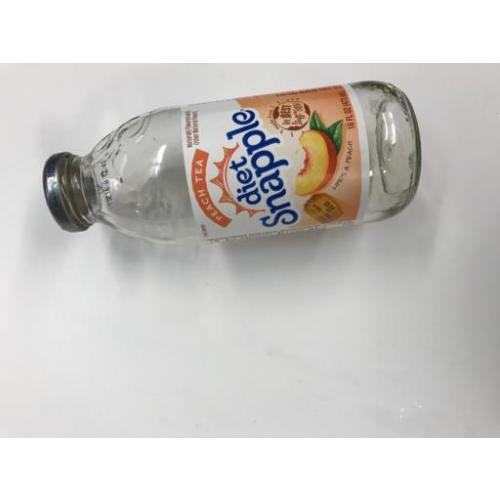glass: (48, 82, 416, 245)
